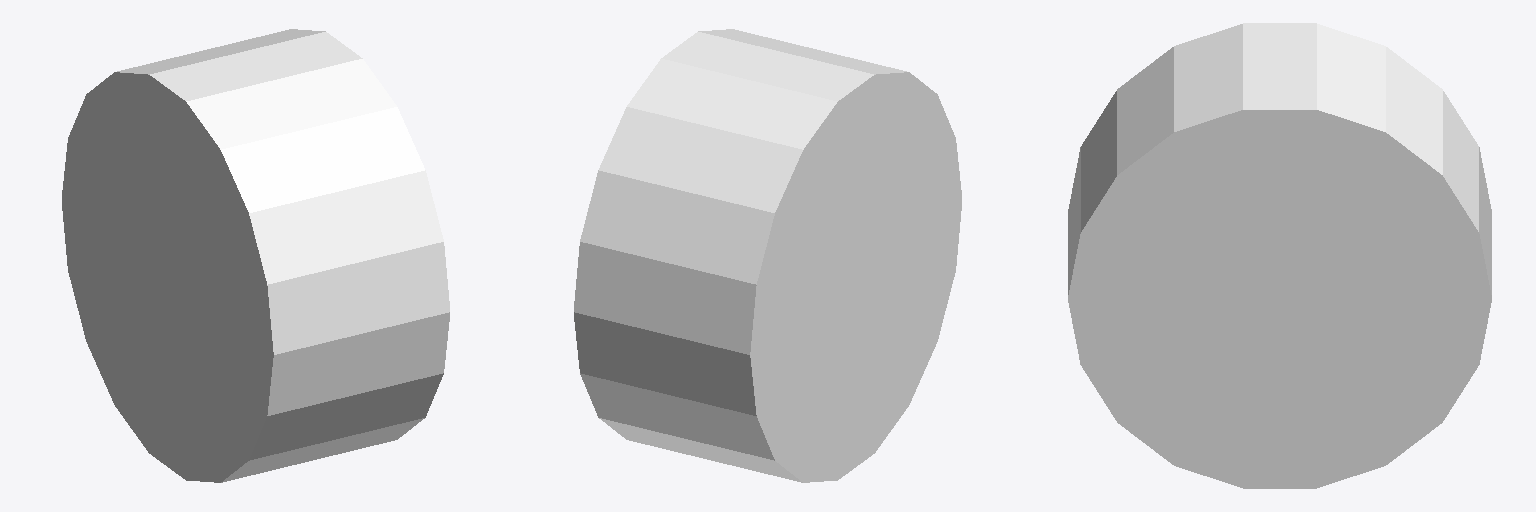
File: truck_wheel.obj
The picture shows the model from 3 angles: view 1: azimuth 30°, elevation 25°; view 2: azimuth 150°, elevation 25°; view 3: azimuth 270°, elevation 25°; orthographic projection.
Parts seen in each view (by area): view 1: Car_07.001; view 2: Car_07.001; view 3: Car_07.001.
Part boxes in pixels (x1,y1,x2,y2): Car_07.001: (62,29,449,482); Car_07.001: (574,29,961,482); Car_07.001: (1068,23,1491,488).
Bounding box in the file's own units: 1.95 × 4 × 4.06.